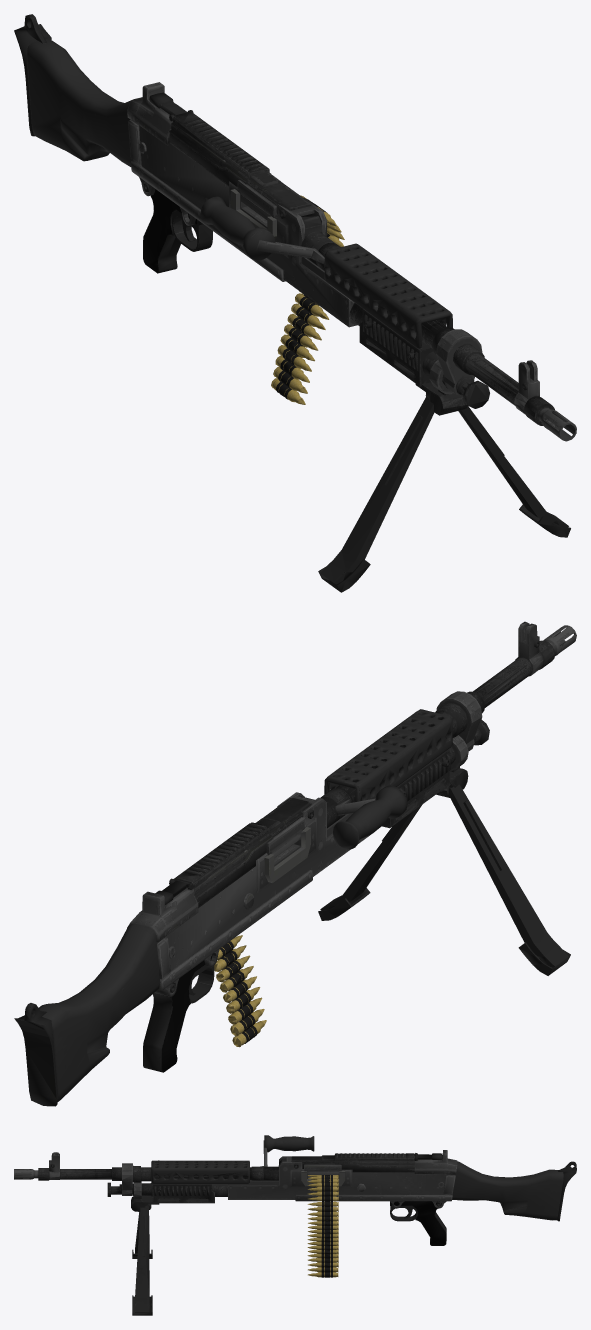
The picture shows the model from 3 angles, top to bottom: view 1: azimuth 30°, elevation 25°; view 2: azimuth 150°, elevation 25°; view 3: azimuth 270°, elevation 25°; orthographic projection. The views are drawn at different scales.
Visible parts, largest first — view 1: body; view 2: body; view 3: body.
Boxes of the visible parts, x1,y1,x2,y2 form: body: (14, 14, 576, 592); body: (14, 621, 576, 1106); body: (14, 1135, 576, 1315).
Bounding box in the file's own units: 0.2581 × 0.2724 × 1.03.
2 materials, 2 textured.
